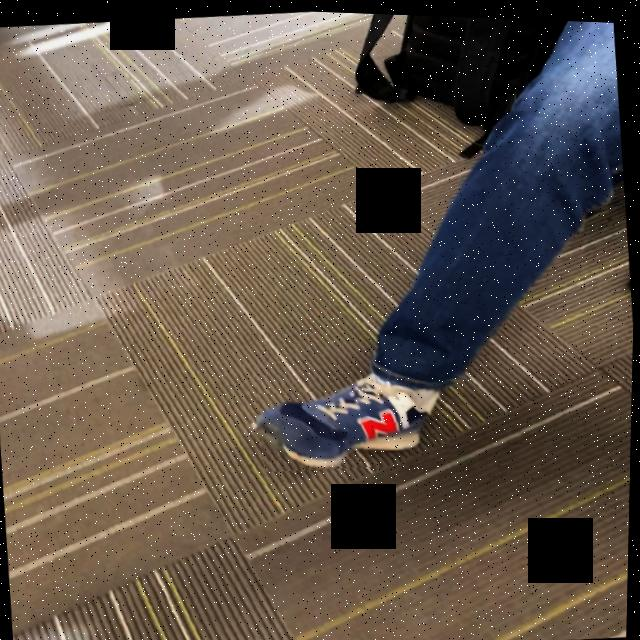shoe: (261, 368, 448, 467)
